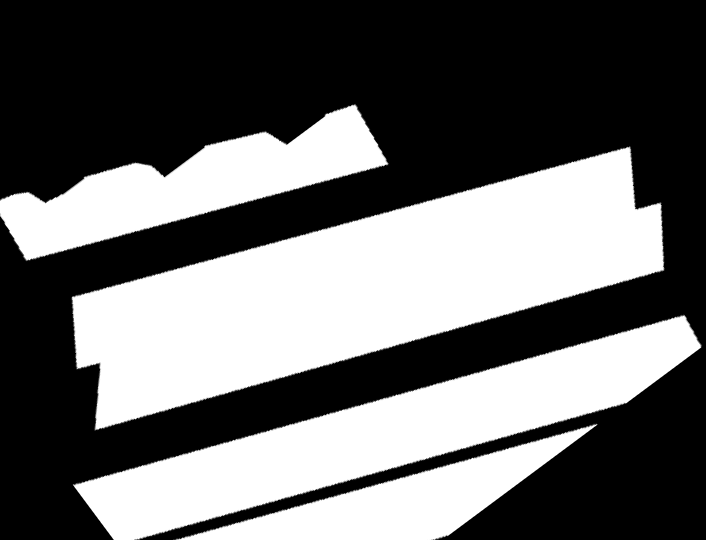parkingspot: (72, 147, 664, 430), (73, 315, 701, 540), (0, 105, 388, 261), (176, 424, 597, 540)
